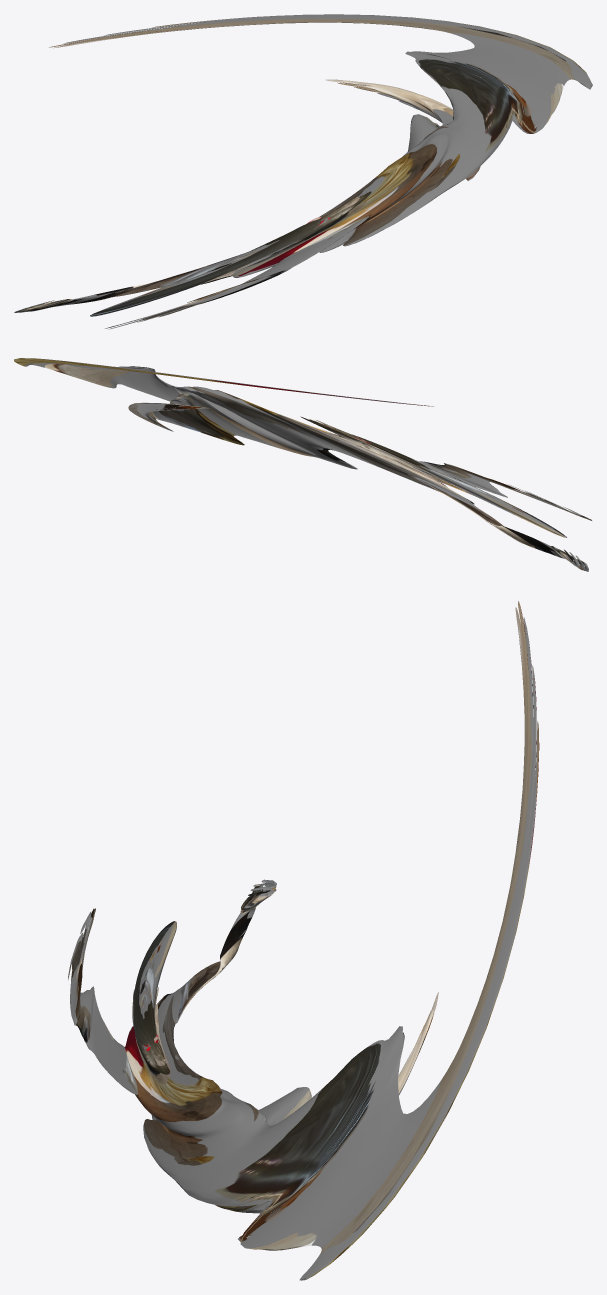
The model's file is twist.obj.
The picture shows the model from 3 angles, top to bottom: view 1: azimuth 30°, elevation 25°; view 2: azimuth 150°, elevation 25°; view 3: azimuth 270°, elevation 25°; orthographic projection. The views are drawn at different scales.
Parts seen in each view (by area): view 1: default; view 2: default; view 3: default.
Boxes of the visible parts, x1,y1,x2,y2 form: default: (14, 14, 592, 329); default: (14, 358, 591, 571); default: (68, 601, 539, 1280).
Bounding box in the file's own units: 259 × 82.67 × 94.27.
